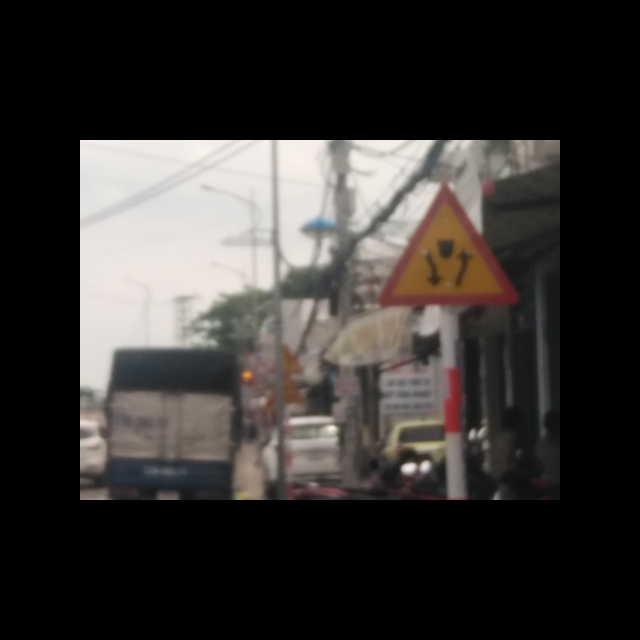Đường đôi: (378, 180, 522, 307)
